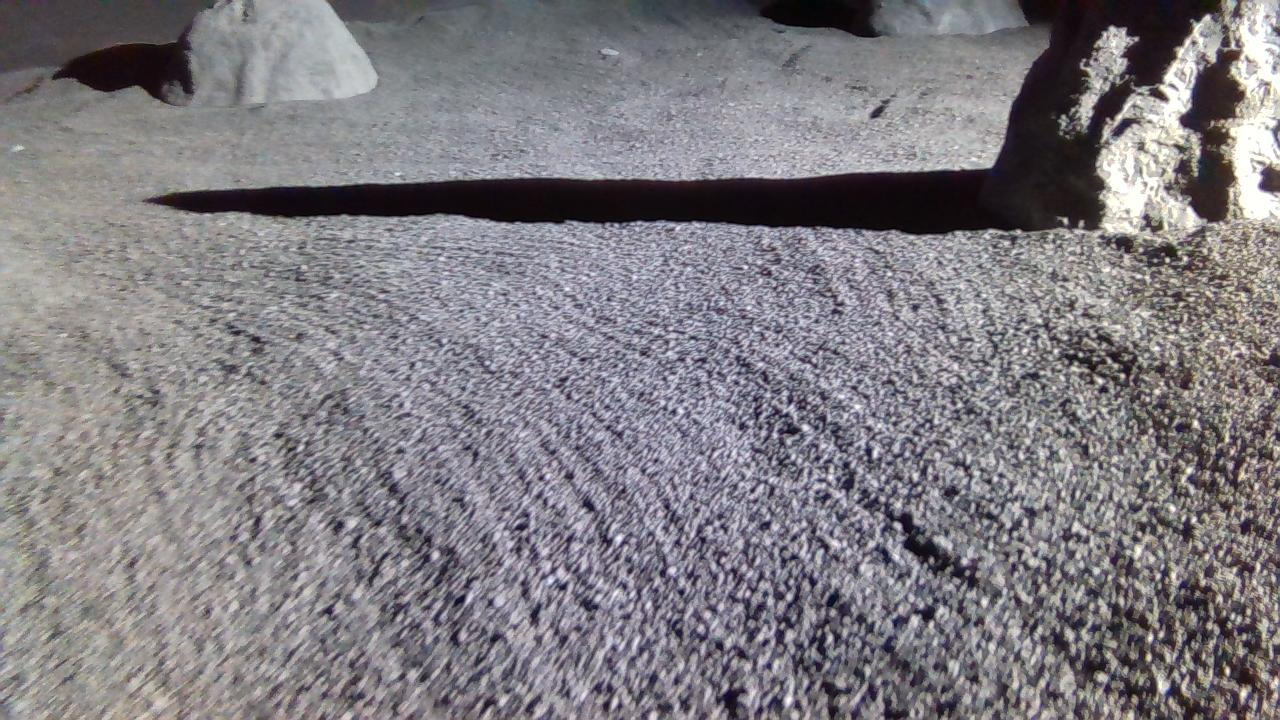rock: (982, 0, 1280, 231), (160, 0, 377, 105), (872, 0, 1030, 34)
